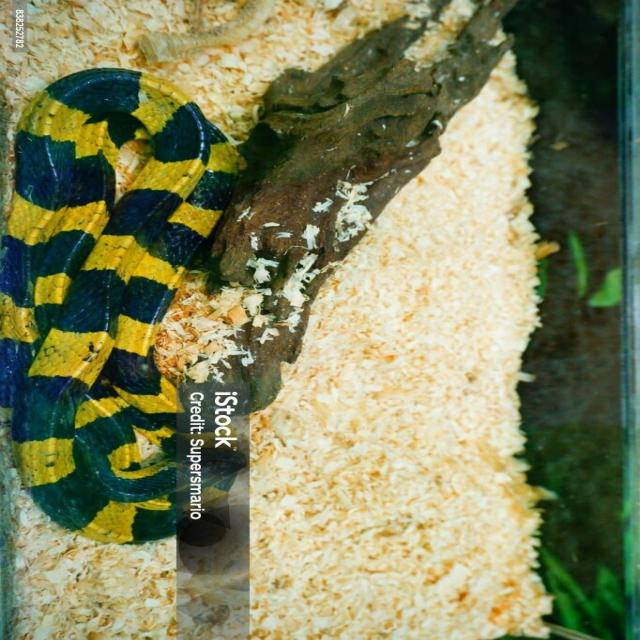Venomous: (35, 96, 217, 331)
